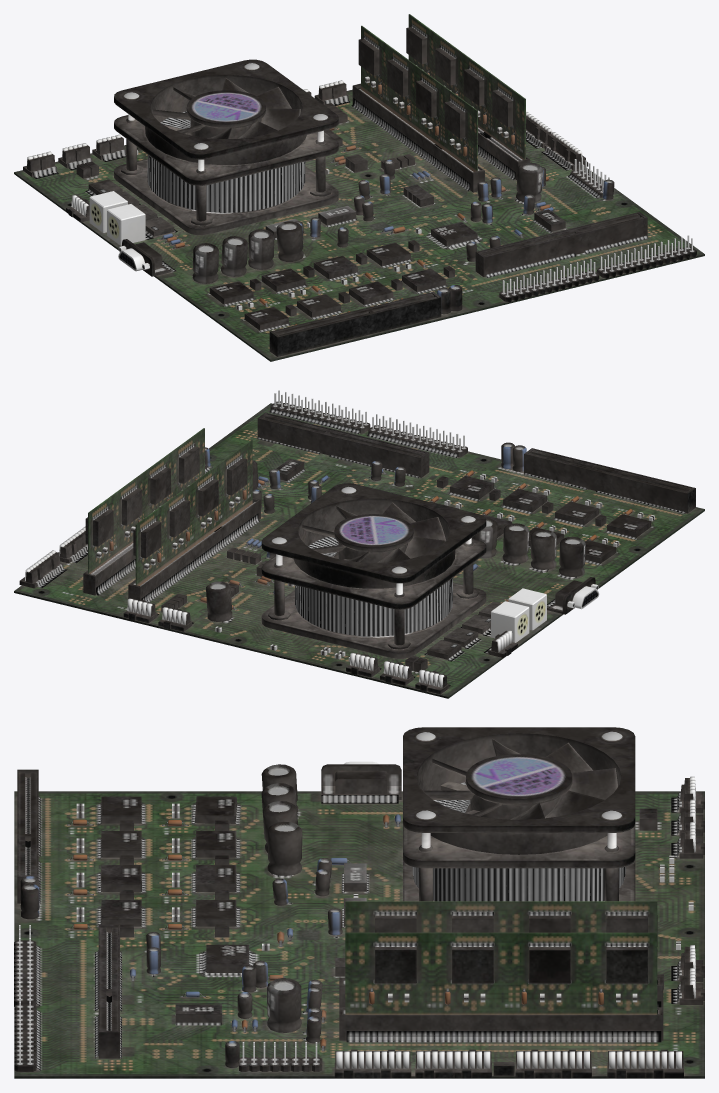
File: circuit_board.glb
3 views of the same model, one above another, from view 1: azimuth 30°, elevation 25°; view 2: azimuth 150°, elevation 25°; view 3: azimuth 270°, elevation 25° (orthographic). The views are drawn at different scales.
Parts seen in each view (by area): view 1: circuit_board; view 2: circuit_board; view 3: circuit_board.
Boxes of the visible parts, x1,y1,x2,y2 form: circuit_board: (14, 14, 704, 361); circuit_board: (14, 390, 704, 698); circuit_board: (14, 727, 704, 1078).
Size of the model in its own units: 0.4035 by 0.0783 by 0.3974.
2 materials, 2 textured.
